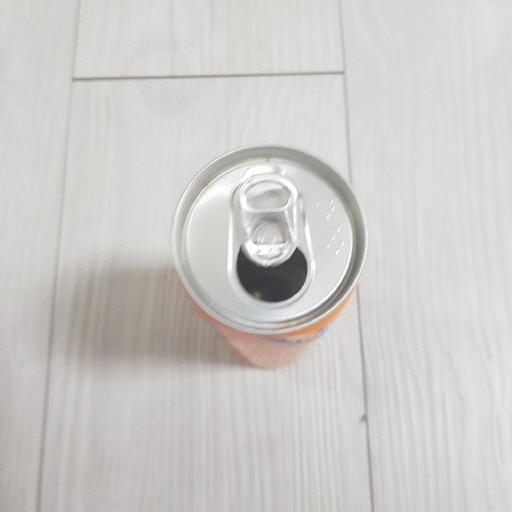Metal_0: (170, 142, 366, 374)
